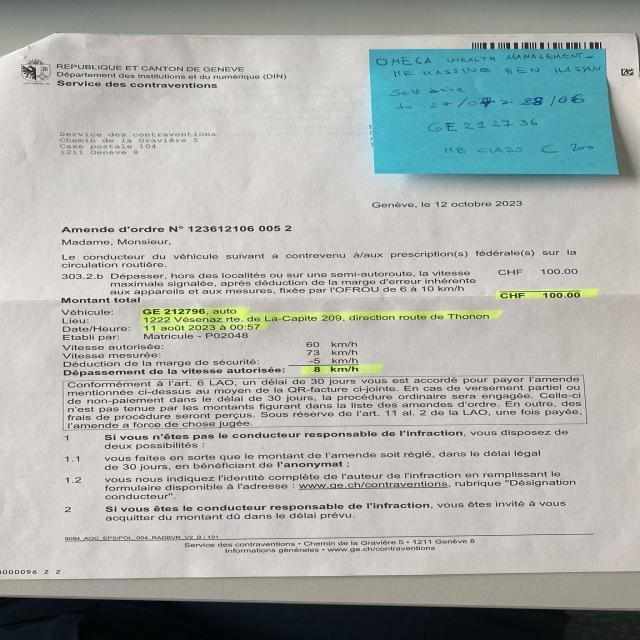paper-document-: (0, 33, 640, 577)
